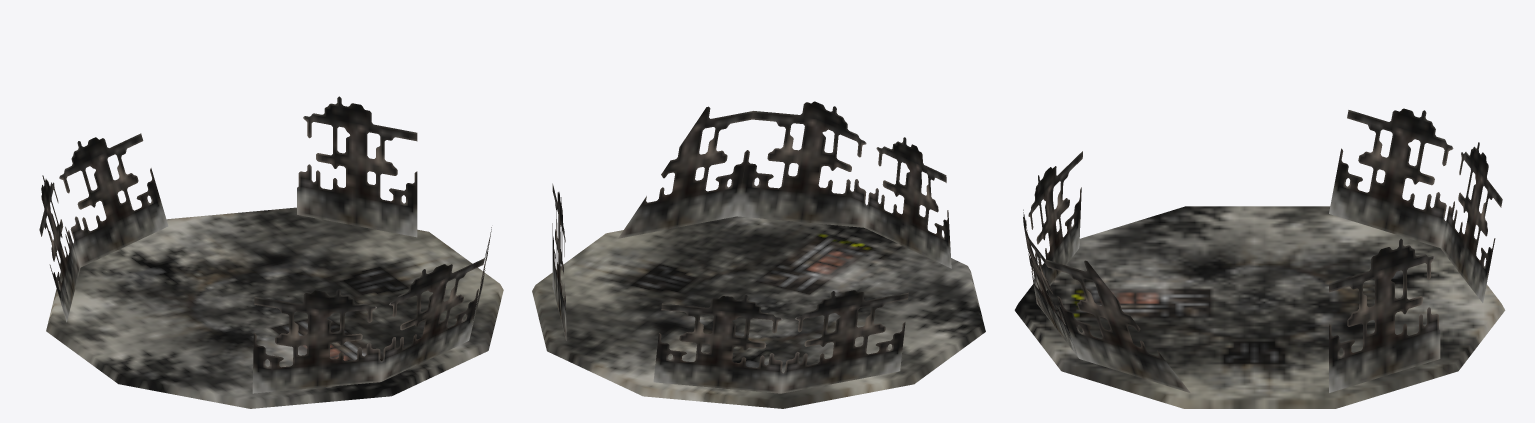
The model's file is liquidstorage_dam.glb.
3 renders of one model, left to right at view 1: azimuth 30°, elevation 25°; view 2: azimuth 150°, elevation 25°; view 3: azimuth 270°, elevation 25°, orthographic. The views are drawn at different scales.
Parts seen in each view (by area): view 1: Tank; view 2: Tank; view 3: Tank.
Boxes of the visible parts, bbox=[...] form: Tank: bbox=[39, 96, 503, 408]; Tank: bbox=[532, 101, 985, 408]; Tank: bbox=[1014, 108, 1505, 408].
Bounding box in the file's own units: 19.98 × 9.83 × 20.76.
1 material, 1 textured.
